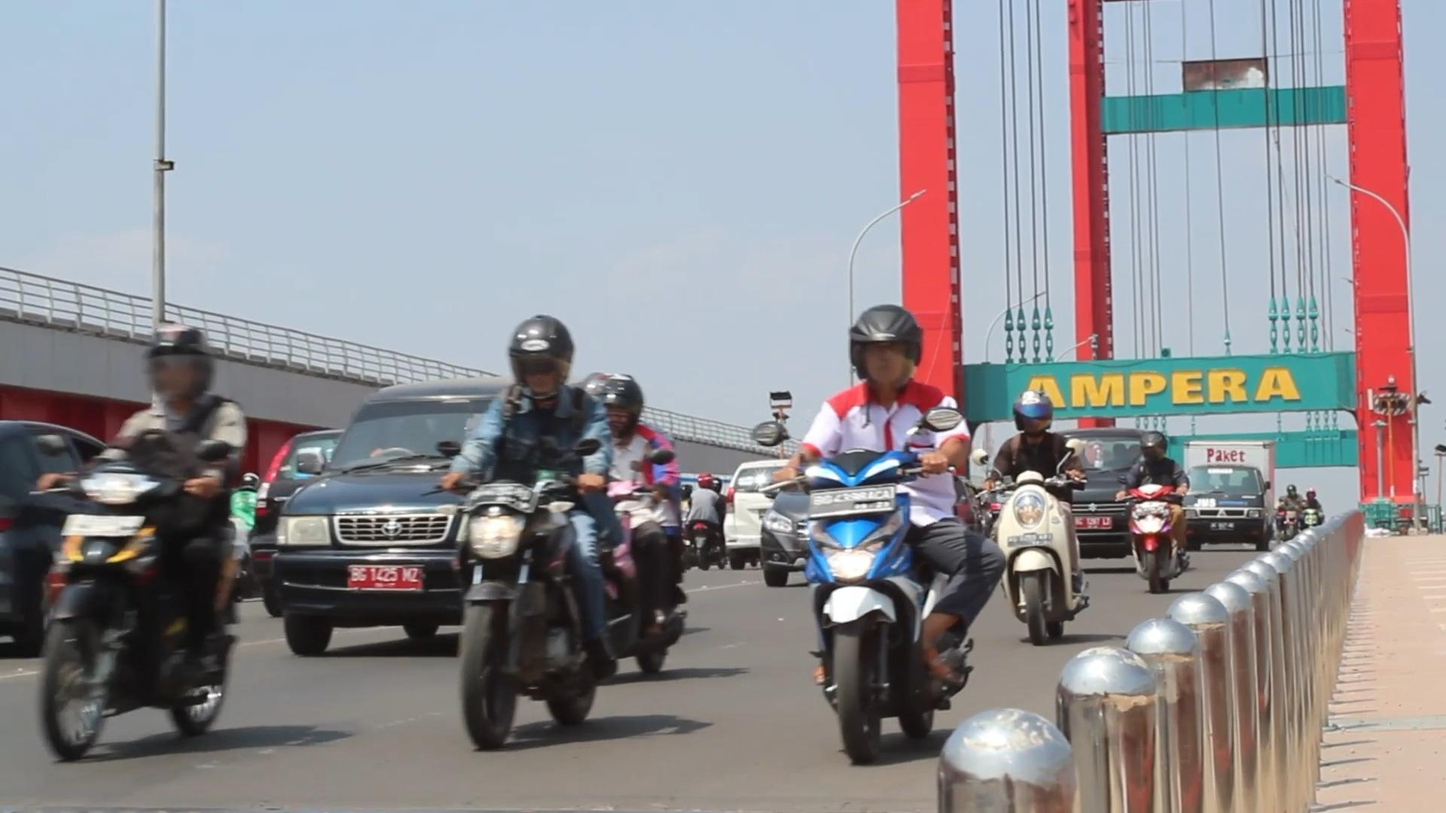Helmet: (127, 313, 235, 418), (840, 292, 928, 402), (500, 307, 582, 405), (589, 362, 648, 443), (1011, 386, 1060, 440), (1137, 423, 1171, 470)
bike: (746, 402, 980, 761), (29, 425, 242, 759), (429, 428, 607, 751), (971, 438, 1086, 638), (1109, 470, 1191, 596)
rider: (774, 295, 1005, 677), (36, 312, 247, 673), (446, 307, 622, 671), (590, 368, 682, 636), (988, 383, 1086, 585), (1115, 426, 1191, 565)
